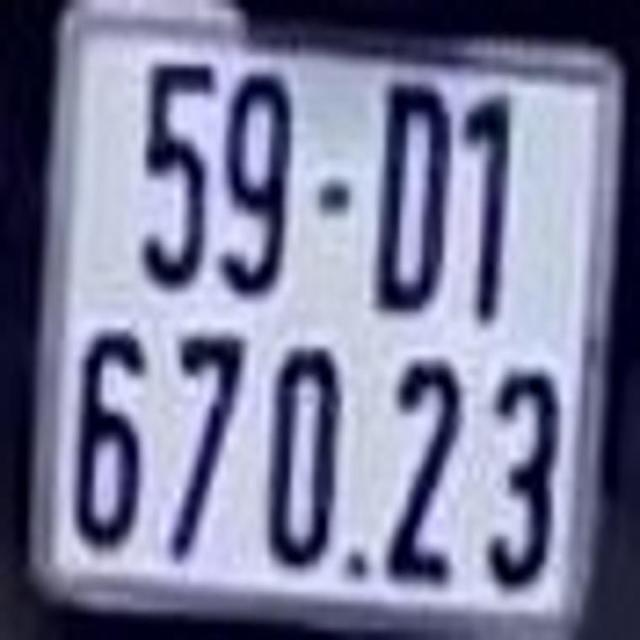0: (268, 345, 338, 568)
1: (462, 90, 514, 322)
2: (388, 358, 458, 585)
3: (488, 369, 558, 588)
5: (142, 59, 213, 288)
6: (74, 328, 147, 551)
7: (169, 332, 246, 562)
9: (222, 70, 290, 296)
D: (376, 82, 453, 317)
